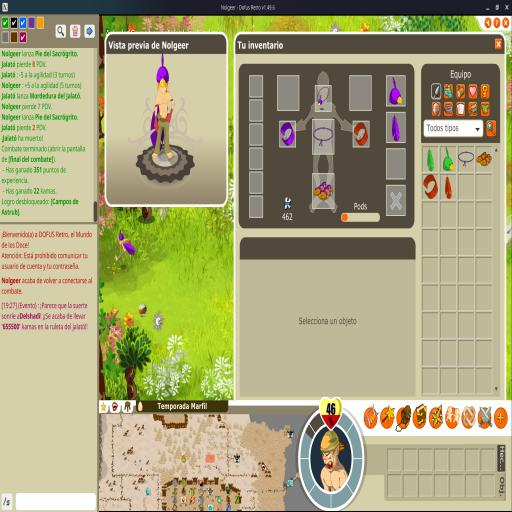Enemigos: (138, 304, 148, 318)
Personaje: (115, 229, 135, 262)
